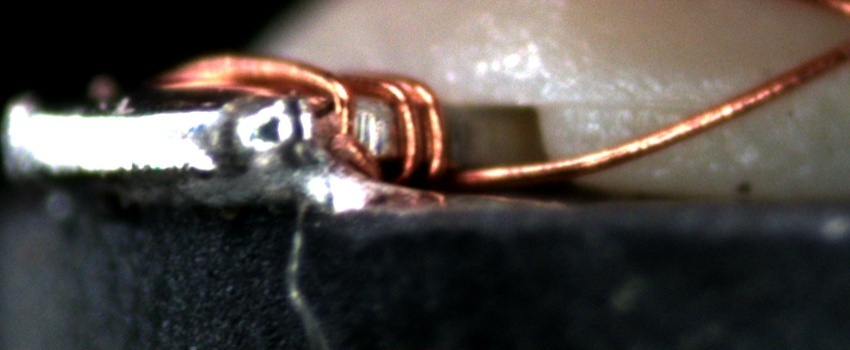DL: (543, 80, 703, 142)
TE: (163, 50, 469, 203)
